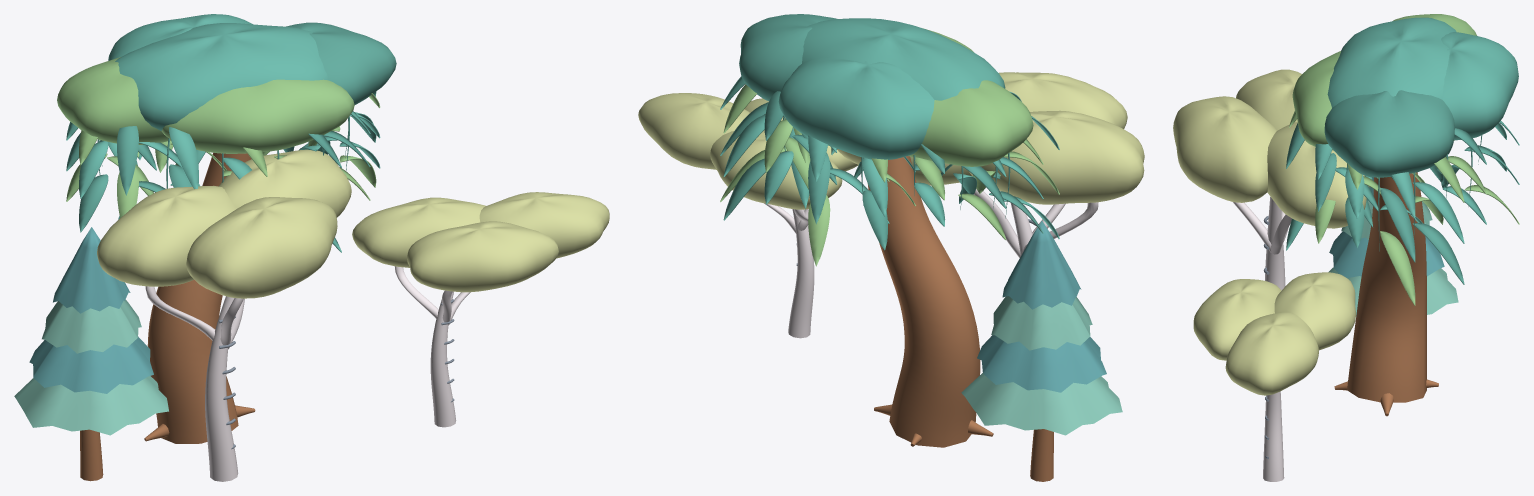
The model's file is owned-tree-components.glb.
3 views of the same model, side by side, from view 1: azimuth 30°, elevation 25°; view 2: azimuth 150°, elevation 25°; view 3: azimuth 270°, elevation 25° (orthographic). The views are drawn at different scales.
Parts seen in each view (by area): view 1: role-l14-2234, role-l15-2598, role-l14-2238, role-l14-2743, role-l15-2597, role-l29-2598, role-l28-2693, role-l14-2235, role-l15-2596, role-l29-2597, role-l29-2596, role-l28-2694 (+13 smaller); view 2: role-l14-2743, role-l14-2237, role-l15-2597, role-l14-2234, role-l14-2235, role-l28-2693, role-l29-2596, role-l28-2694, role-l14-2236, role-l28-2695, role-l15-2598, role-l28-2696 (+22 smaller); view 3: role-l14-2743, role-l14-2236, role-l15-2598, role-l14-2234, role-l14-2237, role-l29-2596, role-l15-2596, role-l29-2597, role-l29-2598, role-l14-2238, role-l15-2597, role-l28-2694 (+20 smaller).
Boxes of the visible parts, <box> form: role-l14-2234: <box>115,23,328,130</box>; role-l15-2598: <box>186,197,337,298</box>; role-l14-2238: <box>161,79,354,153</box>; role-l14-2743: <box>147,152,251,443</box>; role-l15-2597: <box>97,185,236,286</box>; role-l29-2598: <box>407,221,558,292</box>; role-l28-2693: <box>14,376,168,435</box>; role-l14-2235: <box>57,57,171,144</box>; role-l15-2596: <box>218,149,351,217</box>; role-l29-2597: <box>352,197,485,267</box>; role-l29-2596: <box>479,192,609,258</box>; role-l28-2694: <box>29,336,153,393</box>; role-l14-2743: <box>868,156,980,447</box>; role-l14-2237: <box>778,57,934,159</box>; role-l15-2597: <box>969,110,1144,204</box>; role-l14-2234: <box>802,18,1005,100</box>; role-l14-2235: <box>908,80,1033,166</box>; role-l28-2693: <box>961,373,1122,435</box>; role-l29-2596: <box>638,93,749,169</box>; role-l28-2694: <box>977,335,1106,392</box>; role-l14-2236: <box>739,14,837,101</box>; role-l28-2695: <box>991,296,1092,350</box>; role-l15-2598: <box>999,72,1127,128</box>; role-l28-2696: <box>1002,221,1081,309</box>; role-l14-2743: <box>1347,172,1426,402</box>; role-l14-2236: <box>1324,90,1454,177</box>; role-l15-2598: <box>1173,96,1277,202</box>; role-l14-2234: <box>1327,17,1456,107</box>; role-l14-2237: <box>1441,32,1518,140</box>; role-l29-2596: <box>1225,312,1318,395</box>; role-l15-2596: <box>1267,122,1369,228</box>; role-l29-2597: <box>1274,272,1355,350</box>; role-l29-2598: <box>1193,279,1281,360</box>; role-l14-2238: <box>1292,51,1340,150</box>; role-l15-2597: <box>1236,69,1301,130</box>; role-l28-2694: <box>1329,231,1444,278</box>.
Size of the model in its own units: 4.91 by 3.61 by 2.92.
